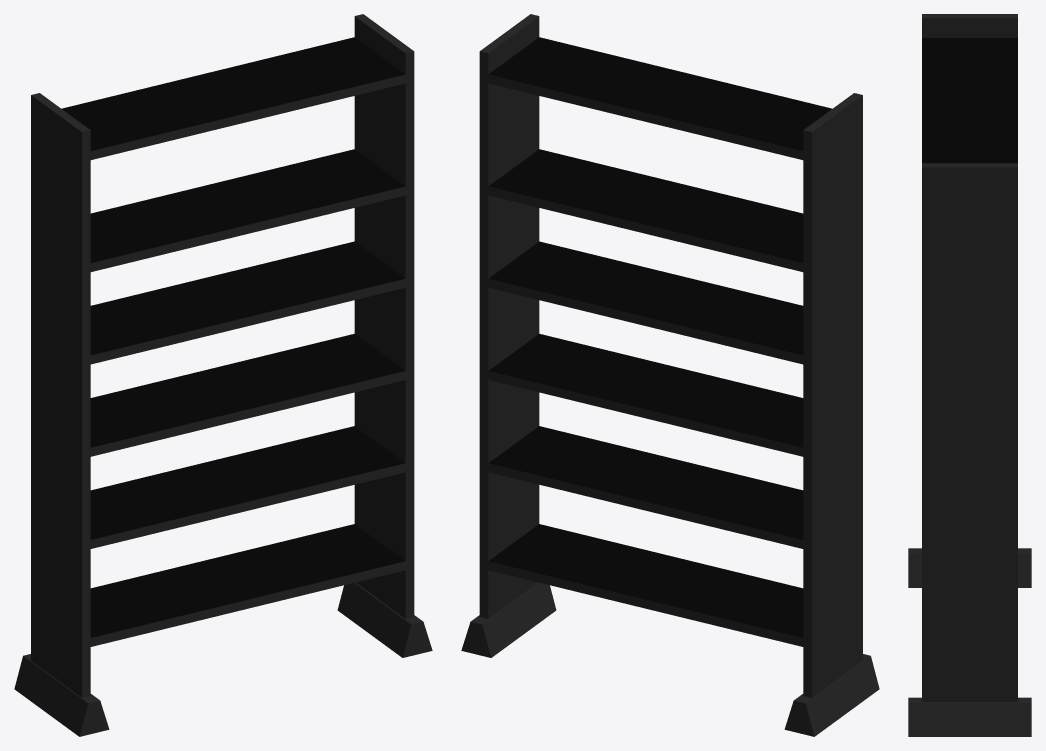
Rendered from 7de2a120-efbf-45b1-ab88-ab4e57a5cecd.glb.
The picture shows the model from 3 angles, left to right: view 1: azimuth 30°, elevation 25°; view 2: azimuth 150°, elevation 25°; view 3: azimuth 270°, elevation 25°; orthographic projection. The views are drawn at different scales.
Parts seen in each view (by area): view 1: ArtShelf.006; view 2: ArtShelf.006; view 3: ArtShelf.006.
Part boxes in pixels (<box>): ArtShelf.006: <box>14,14,432,736</box>; ArtShelf.006: <box>461,14,879,736</box>; ArtShelf.006: <box>908,14,1031,736</box>.
Size of what is drawn, in the model's own units: 1.4 by 2.26 by 0.4466.
Materials: 1 (1 with a texture image).
